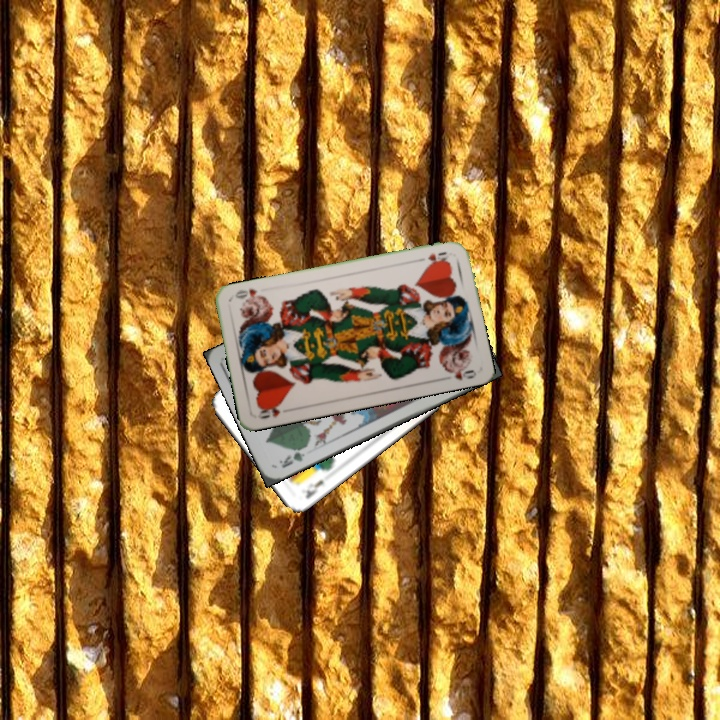EK: (297, 476, 326, 502)
GK: (275, 442, 309, 471)
HO: (254, 400, 285, 422), (423, 248, 451, 267)
